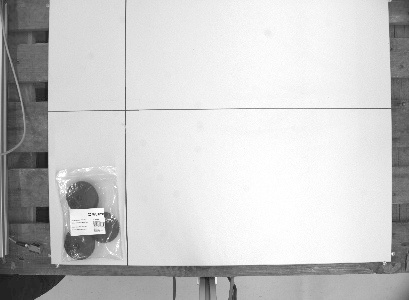t1: (54, 163, 128, 267)
